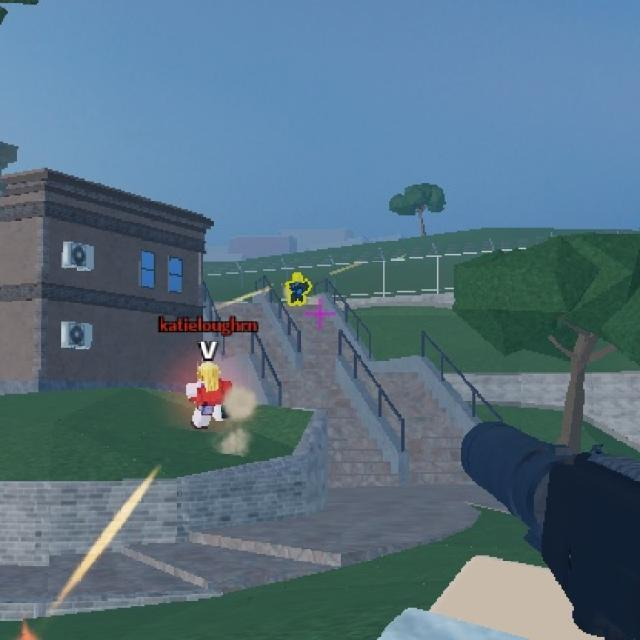player: (285, 268, 310, 308)
